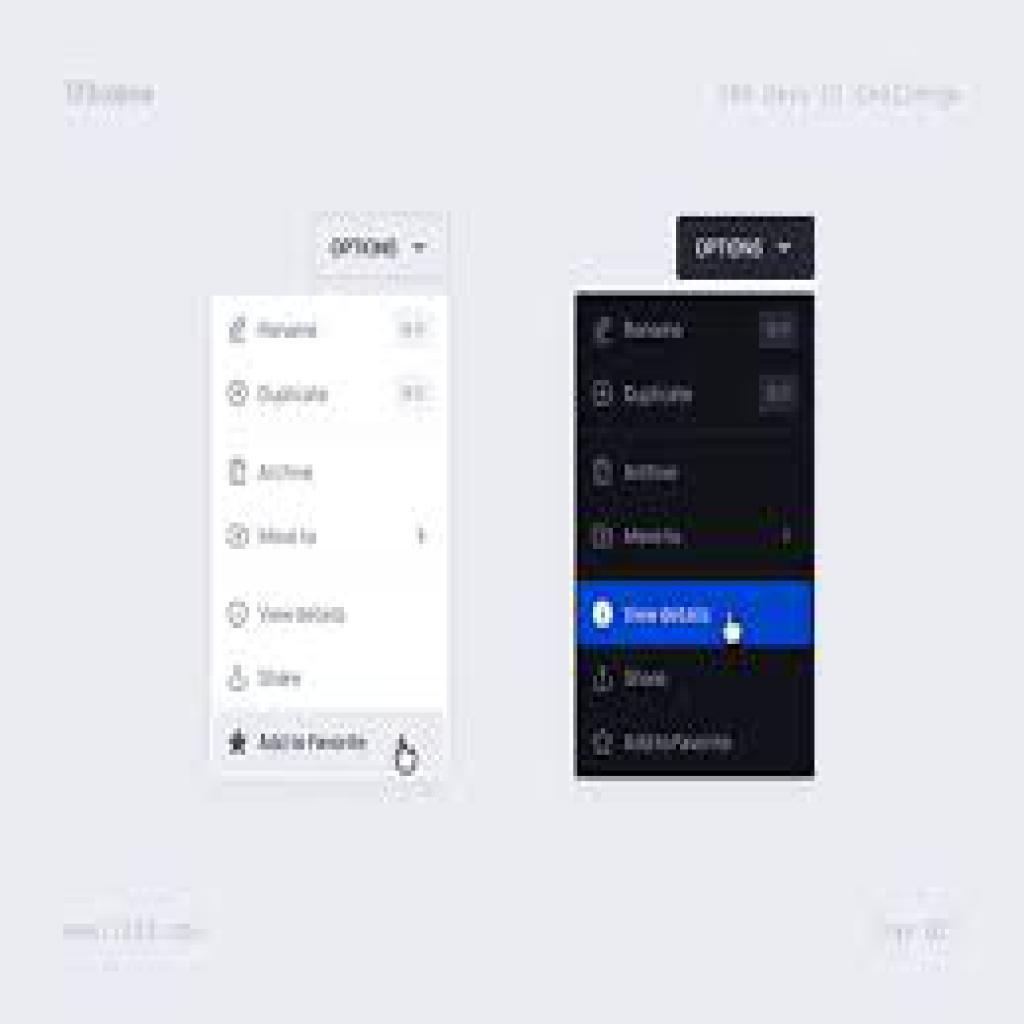dropdown: (310, 208, 451, 281), (677, 216, 816, 282)
